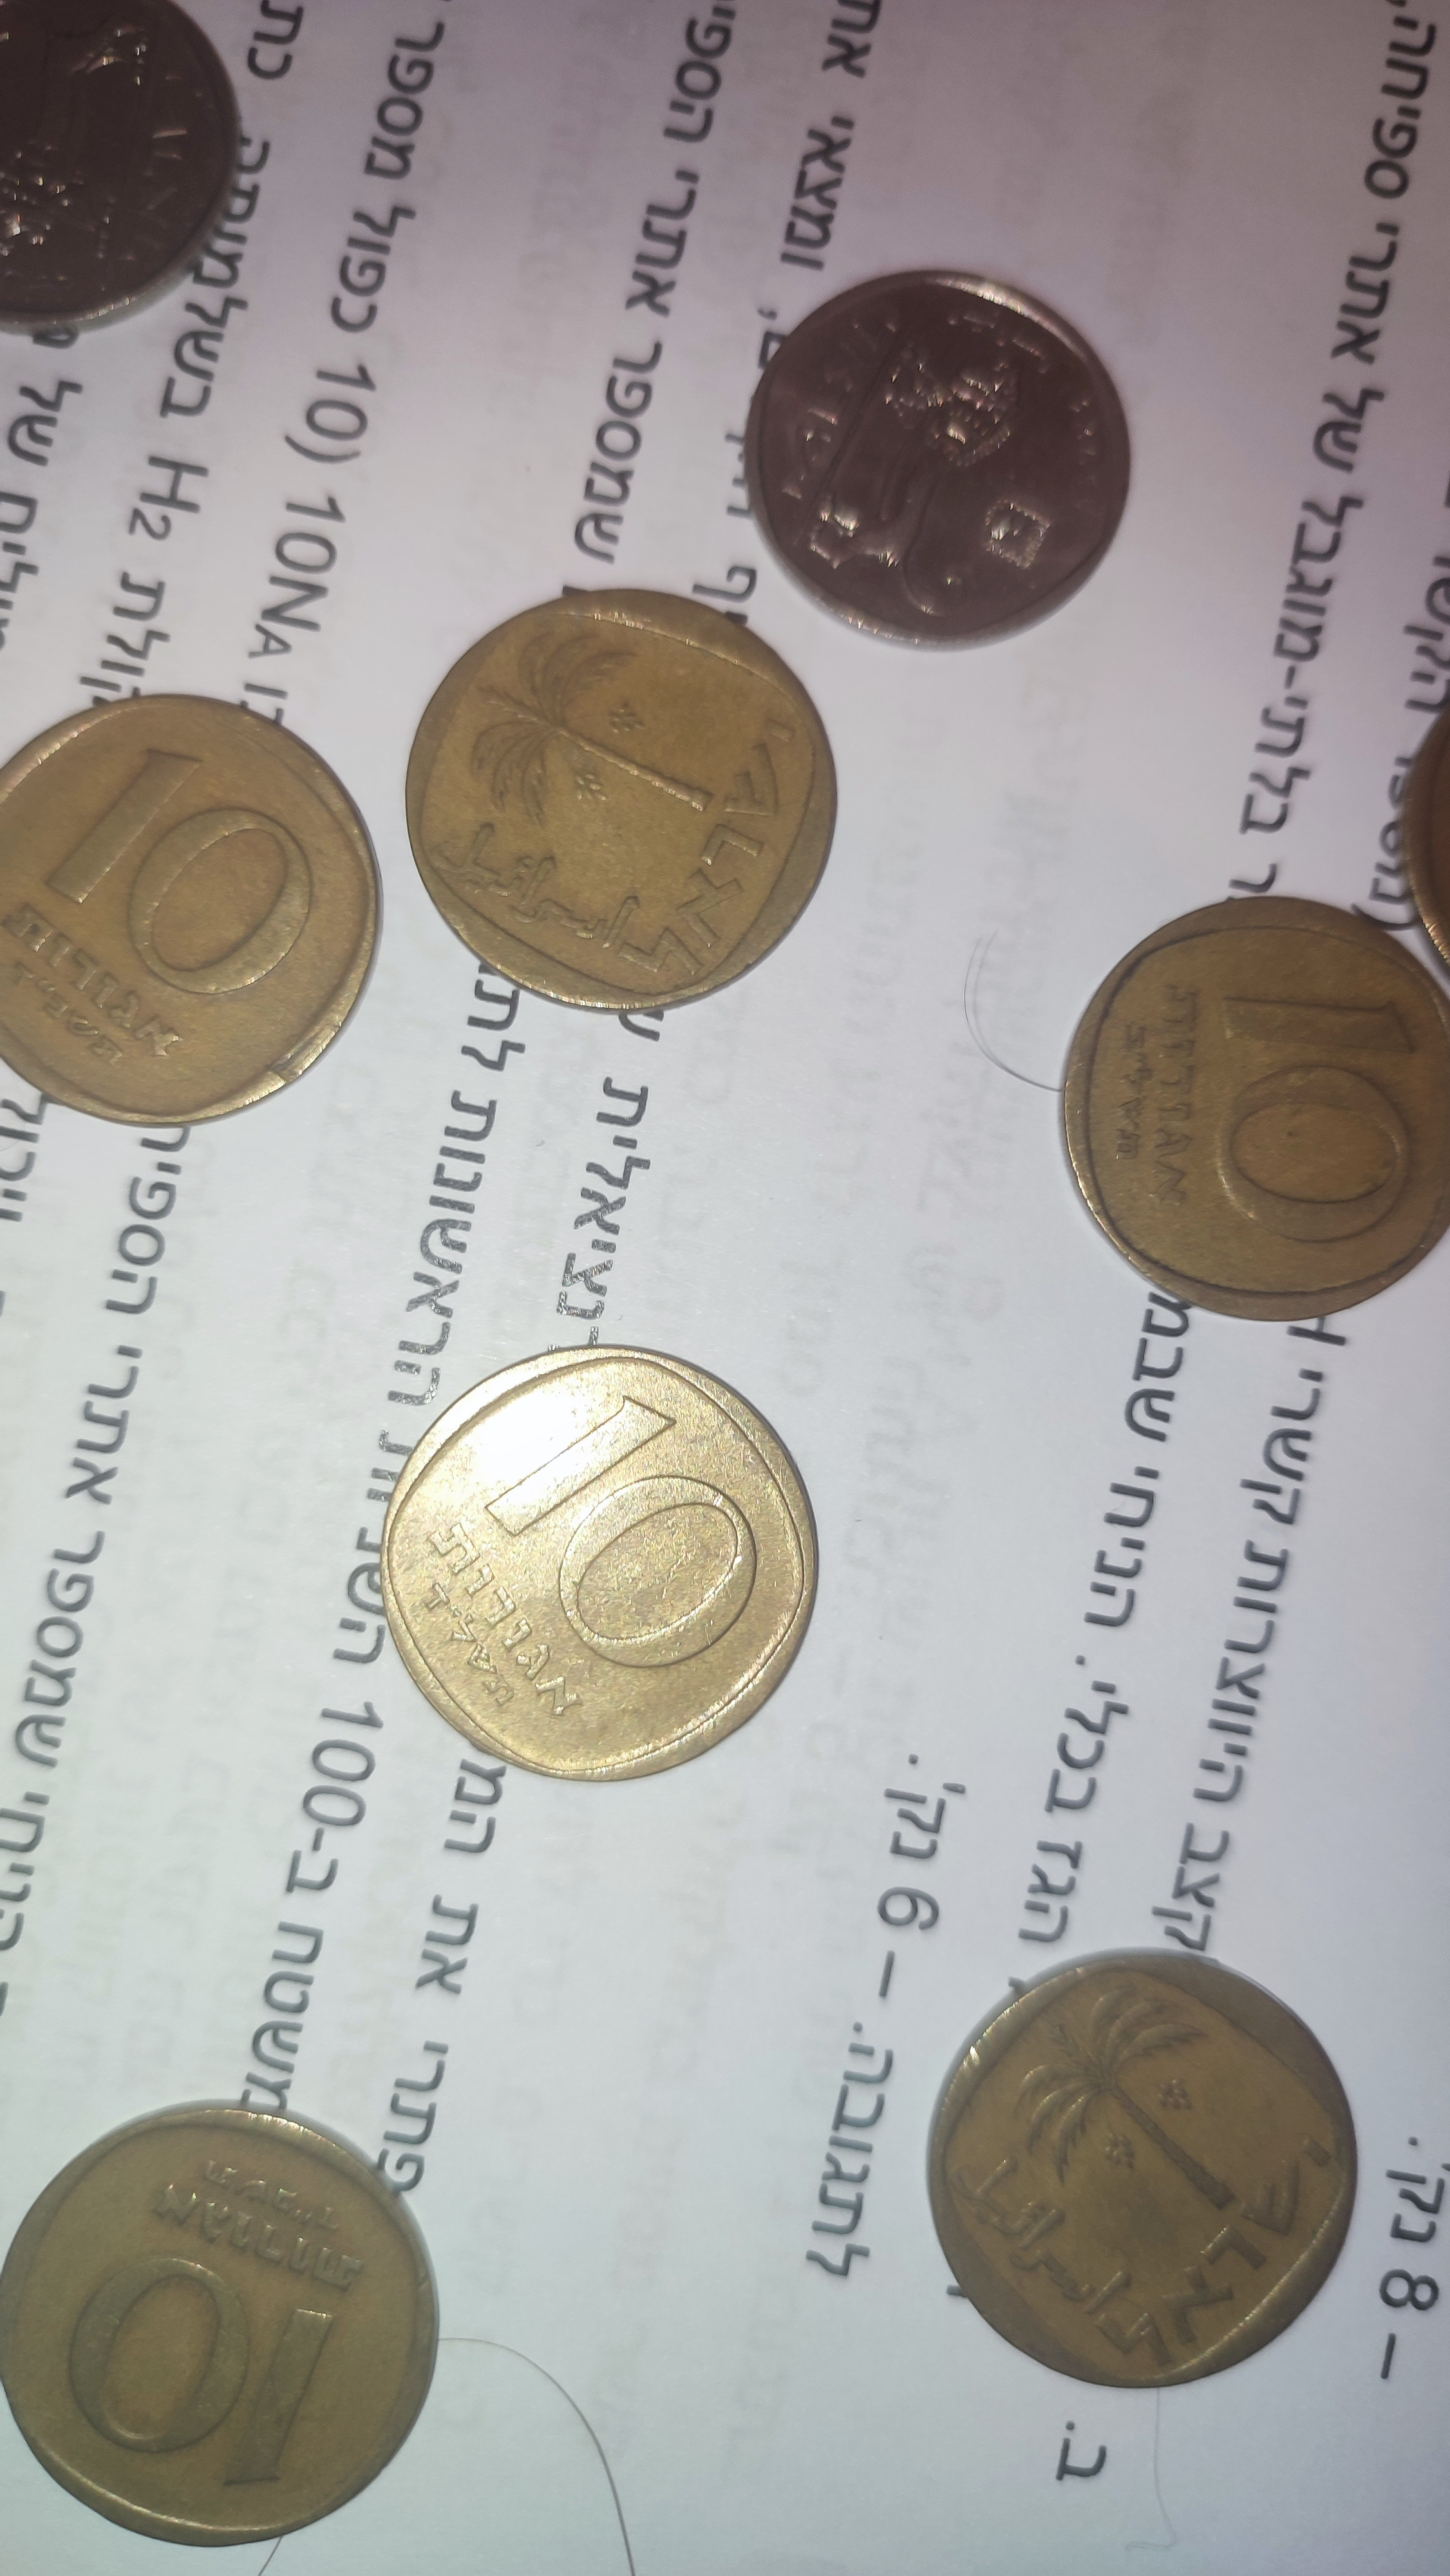1/2 old sheqel: (739, 264, 1135, 658)
10 old agora brown: (373, 1330, 828, 1787), (0, 2091, 446, 2553), (921, 1944, 1367, 2399), (398, 579, 842, 1023), (1054, 892, 1450, 1338), (0, 686, 393, 1127)
